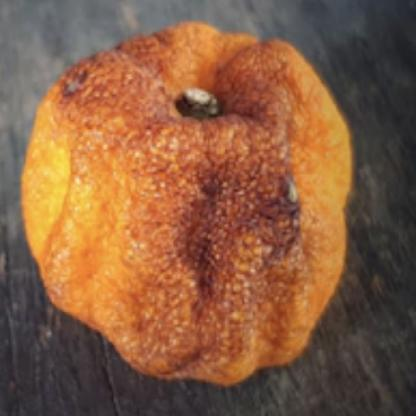rotten: (24, 23, 351, 386)
